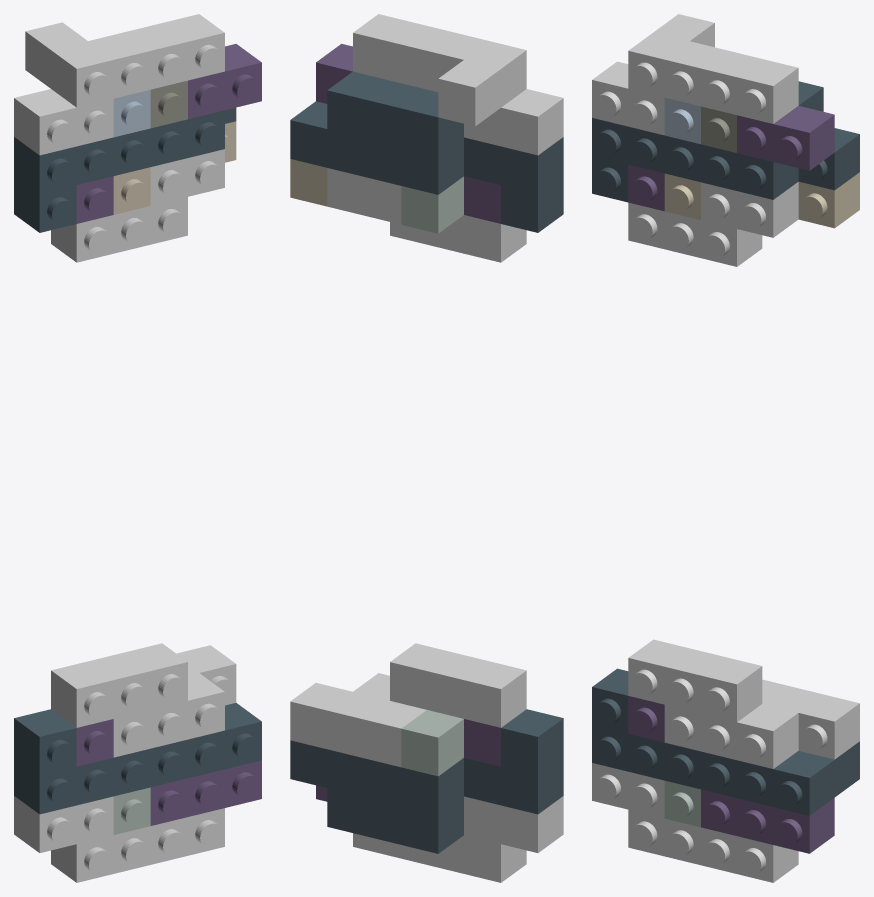
The model's file is full.glb.
3 views of the same model, side by side, from view 1: azimuth 30°, elevation 25°; view 2: azimuth 150°, elevation 25°; view 3: azimuth 330°, elevation 25° (orthographic). The views are drawn at different scales.
Visible parts, largest first — view 1: world; view 2: world; view 3: world.
Part boxes in pixels (left/top/right/bottom): world: left=14, top=14, right=261, bottom=882; world: left=290, top=14, right=563, bottom=882; world: left=592, top=14, right=859, bottom=882.
Size of the model in its own units: 48 by 168 by 21.
